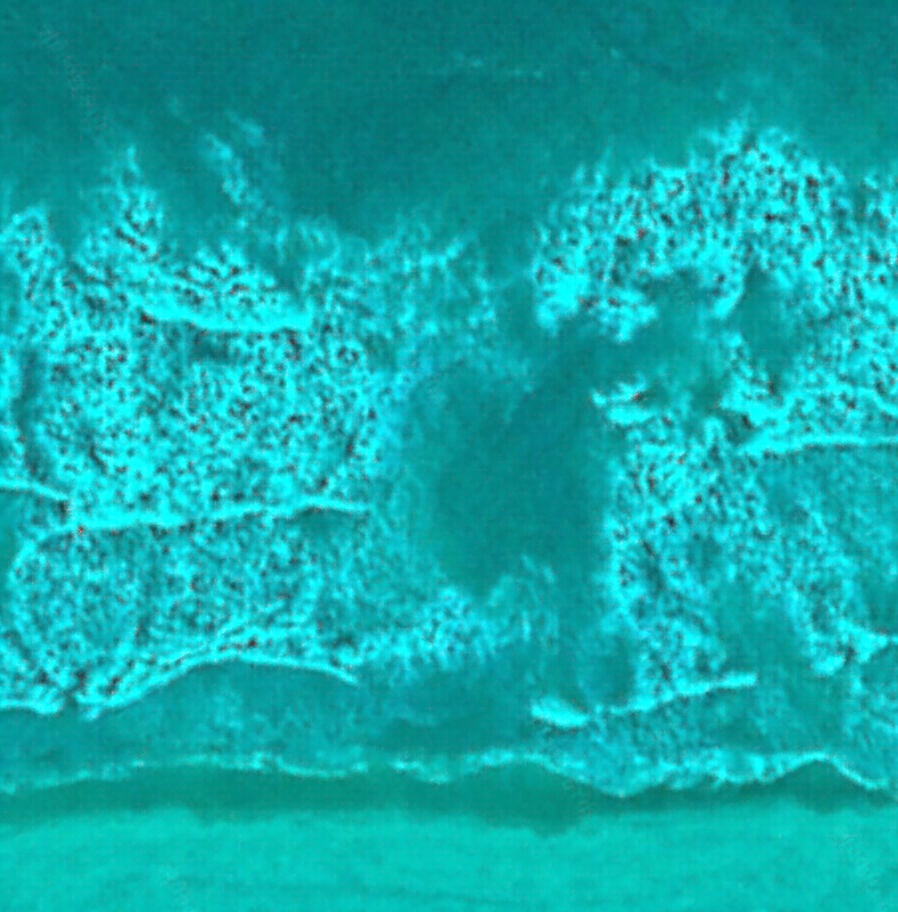rip_current: (300, 167, 728, 737)
